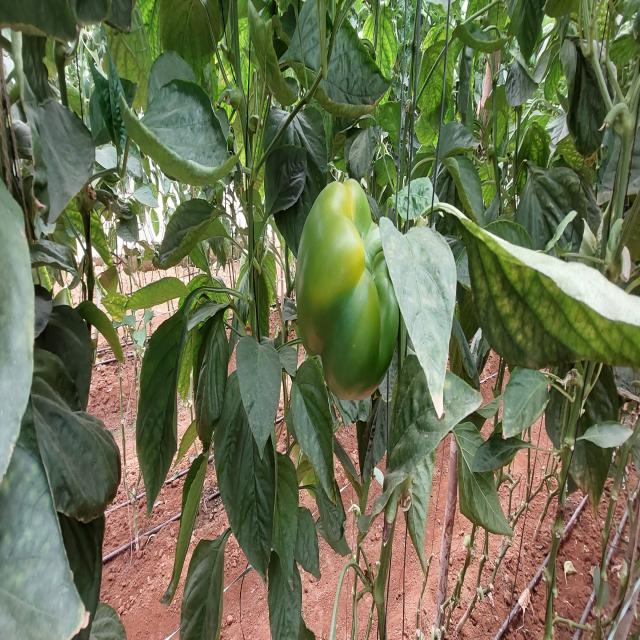Green--Not-ready-to-harvest: (289, 165, 410, 400)
